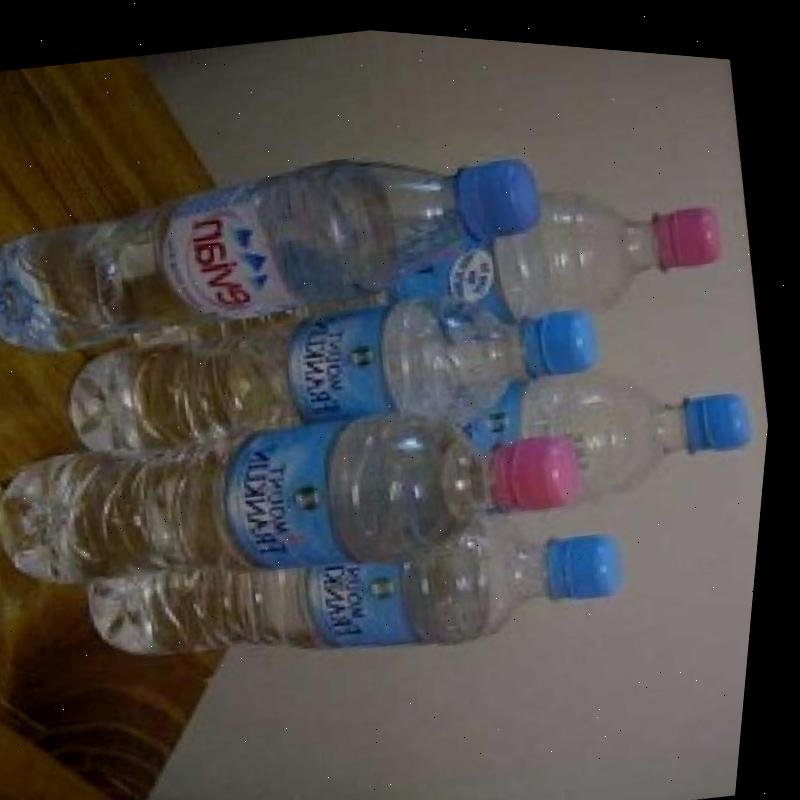botella: (122, 121, 744, 401), (0, 349, 599, 634), (0, 91, 562, 392), (62, 243, 618, 493), (88, 474, 641, 711), (454, 316, 779, 524)
